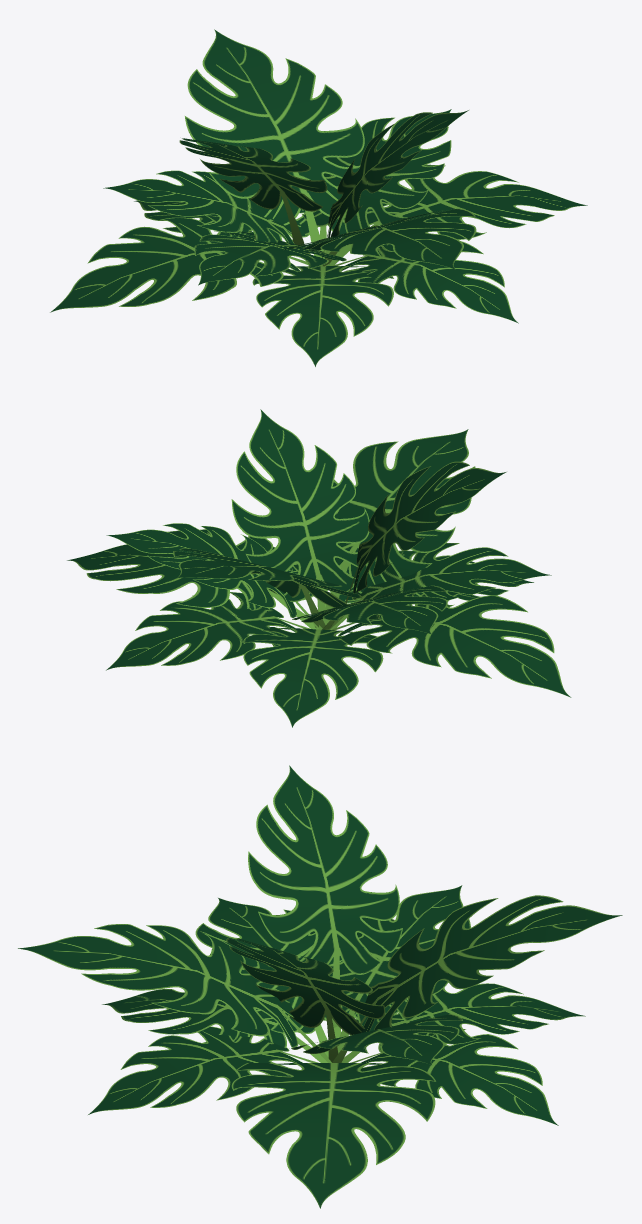
File: Palm4.fbx
3 renders of one model, top to bottom at view 1: azimuth 30°, elevation 25°; view 2: azimuth 150°, elevation 25°; view 3: azimuth 270°, elevation 25°, orthographic. The views are drawn at different scales.
Parts seen in each view (by area): view 1: Palm4; view 2: Palm4; view 3: Palm4.
Boxes of the visible parts, <box> form: Palm4: <box>50,29,587,366</box>; Palm4: <box>67,409,571,727</box>; Palm4: <box>18,765,622,1208</box>.
Size of the model in its own units: 678 by 255 by 600.
